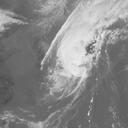cyclone: (40, 28, 94, 85)
